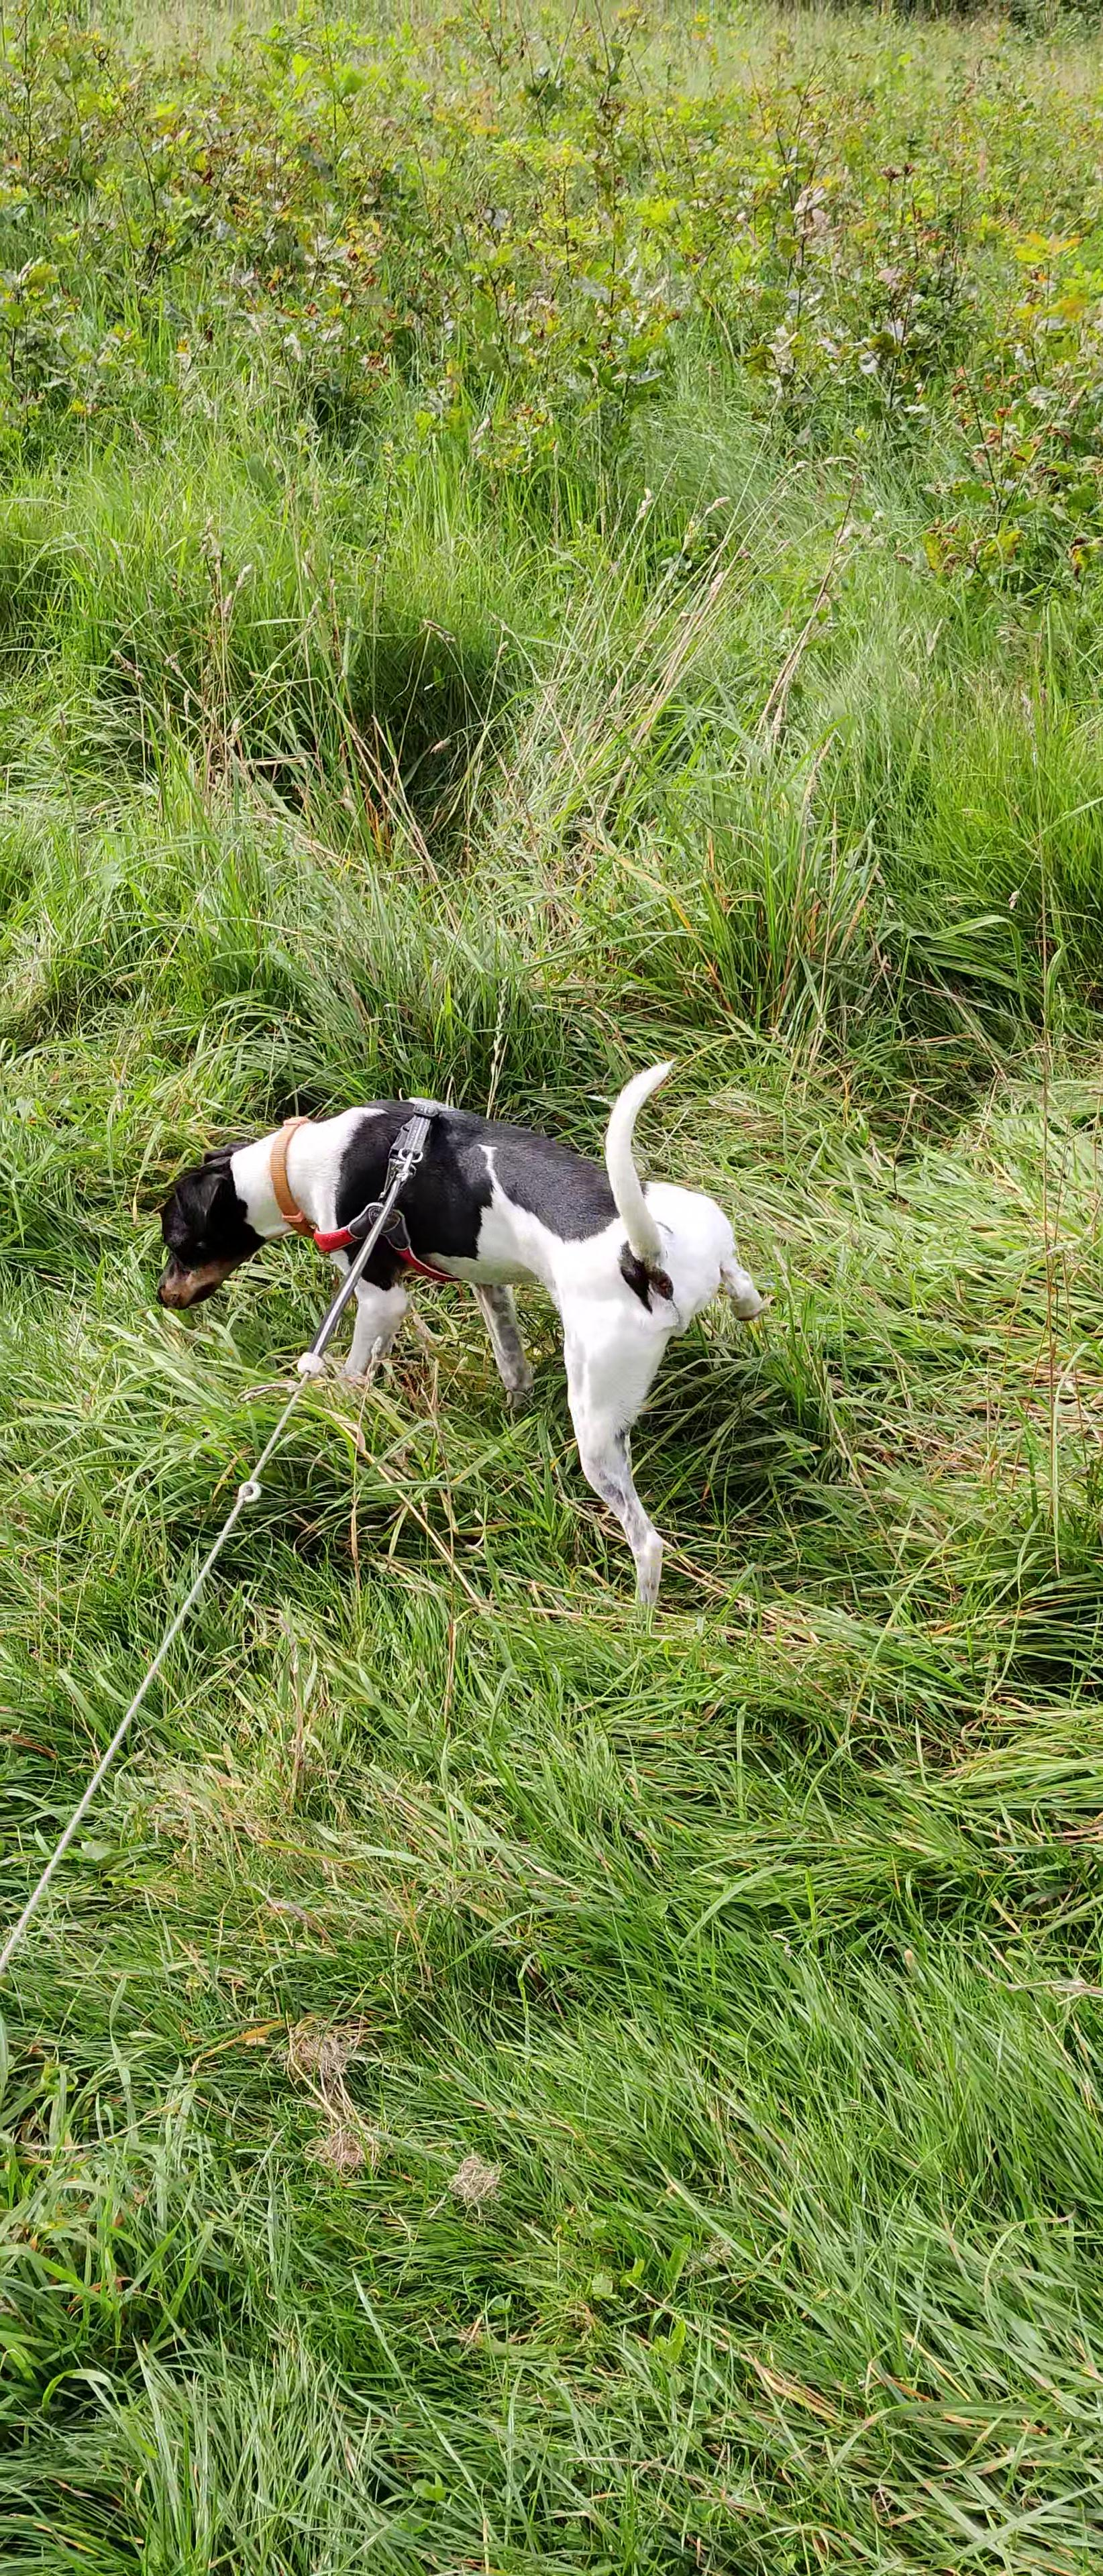Dog: (140, 1030, 801, 1626)
